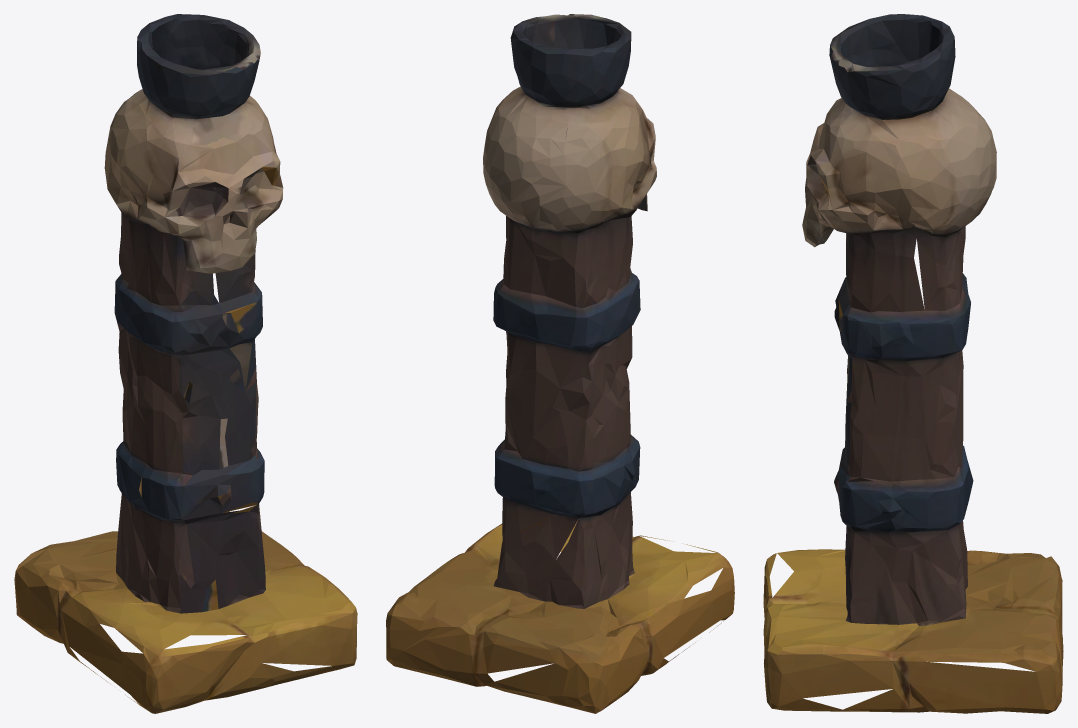
File: torch_skull.glb
3 views of the same model, side by side, from view 1: azimuth 30°, elevation 25°; view 2: azimuth 150°, elevation 25°; view 3: azimuth 270°, elevation 25° (orthographic). The views are drawn at different scales.
Parts seen in each view (by area): view 1: geometry_0; view 2: geometry_0; view 3: geometry_0.
Part boxes in pixels (x1=…): geometry_0: x1=14, y1=14, x2=357, y2=713; geometry_0: x1=386, y1=14, x2=734, y2=713; geometry_0: x1=763, y1=14, x2=1063, y2=713.
Bounding box in the file's own units: 0.5638 × 1.48 × 0.6419.
1 material, 1 textured.
